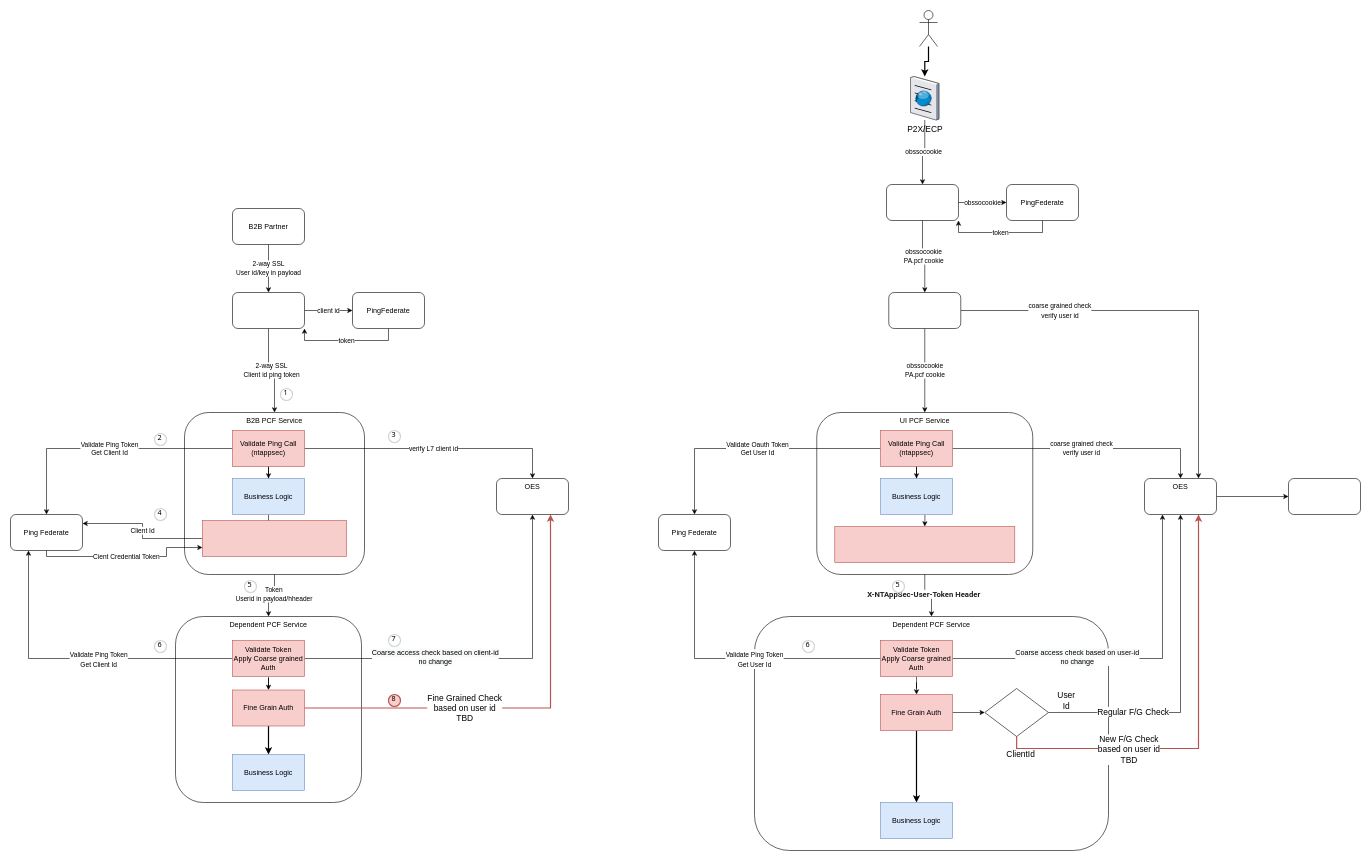
The diagram is 1371 pixels wide and 861 high, and some of its shapes have lost their labels. Each missing label, with the centre of its shape:
"Actor" belongs at point (928, 28).
"L7 Validate B2B partner Add Client Id" belongs at point (268, 310).
"LDAP" belongs at point (1324, 496).
"ntAppSecCCOAuth2RestTemplate" belongs at point (274, 538).
"ntAppSecPropagationCCOAuth2RestTemplate" belongs at point (924, 544).
"P2X Gateway" belongs at point (924, 310).
"Ping" belongs at point (922, 202).
"UserId or ClientId Auth" belongs at point (1016, 712).
